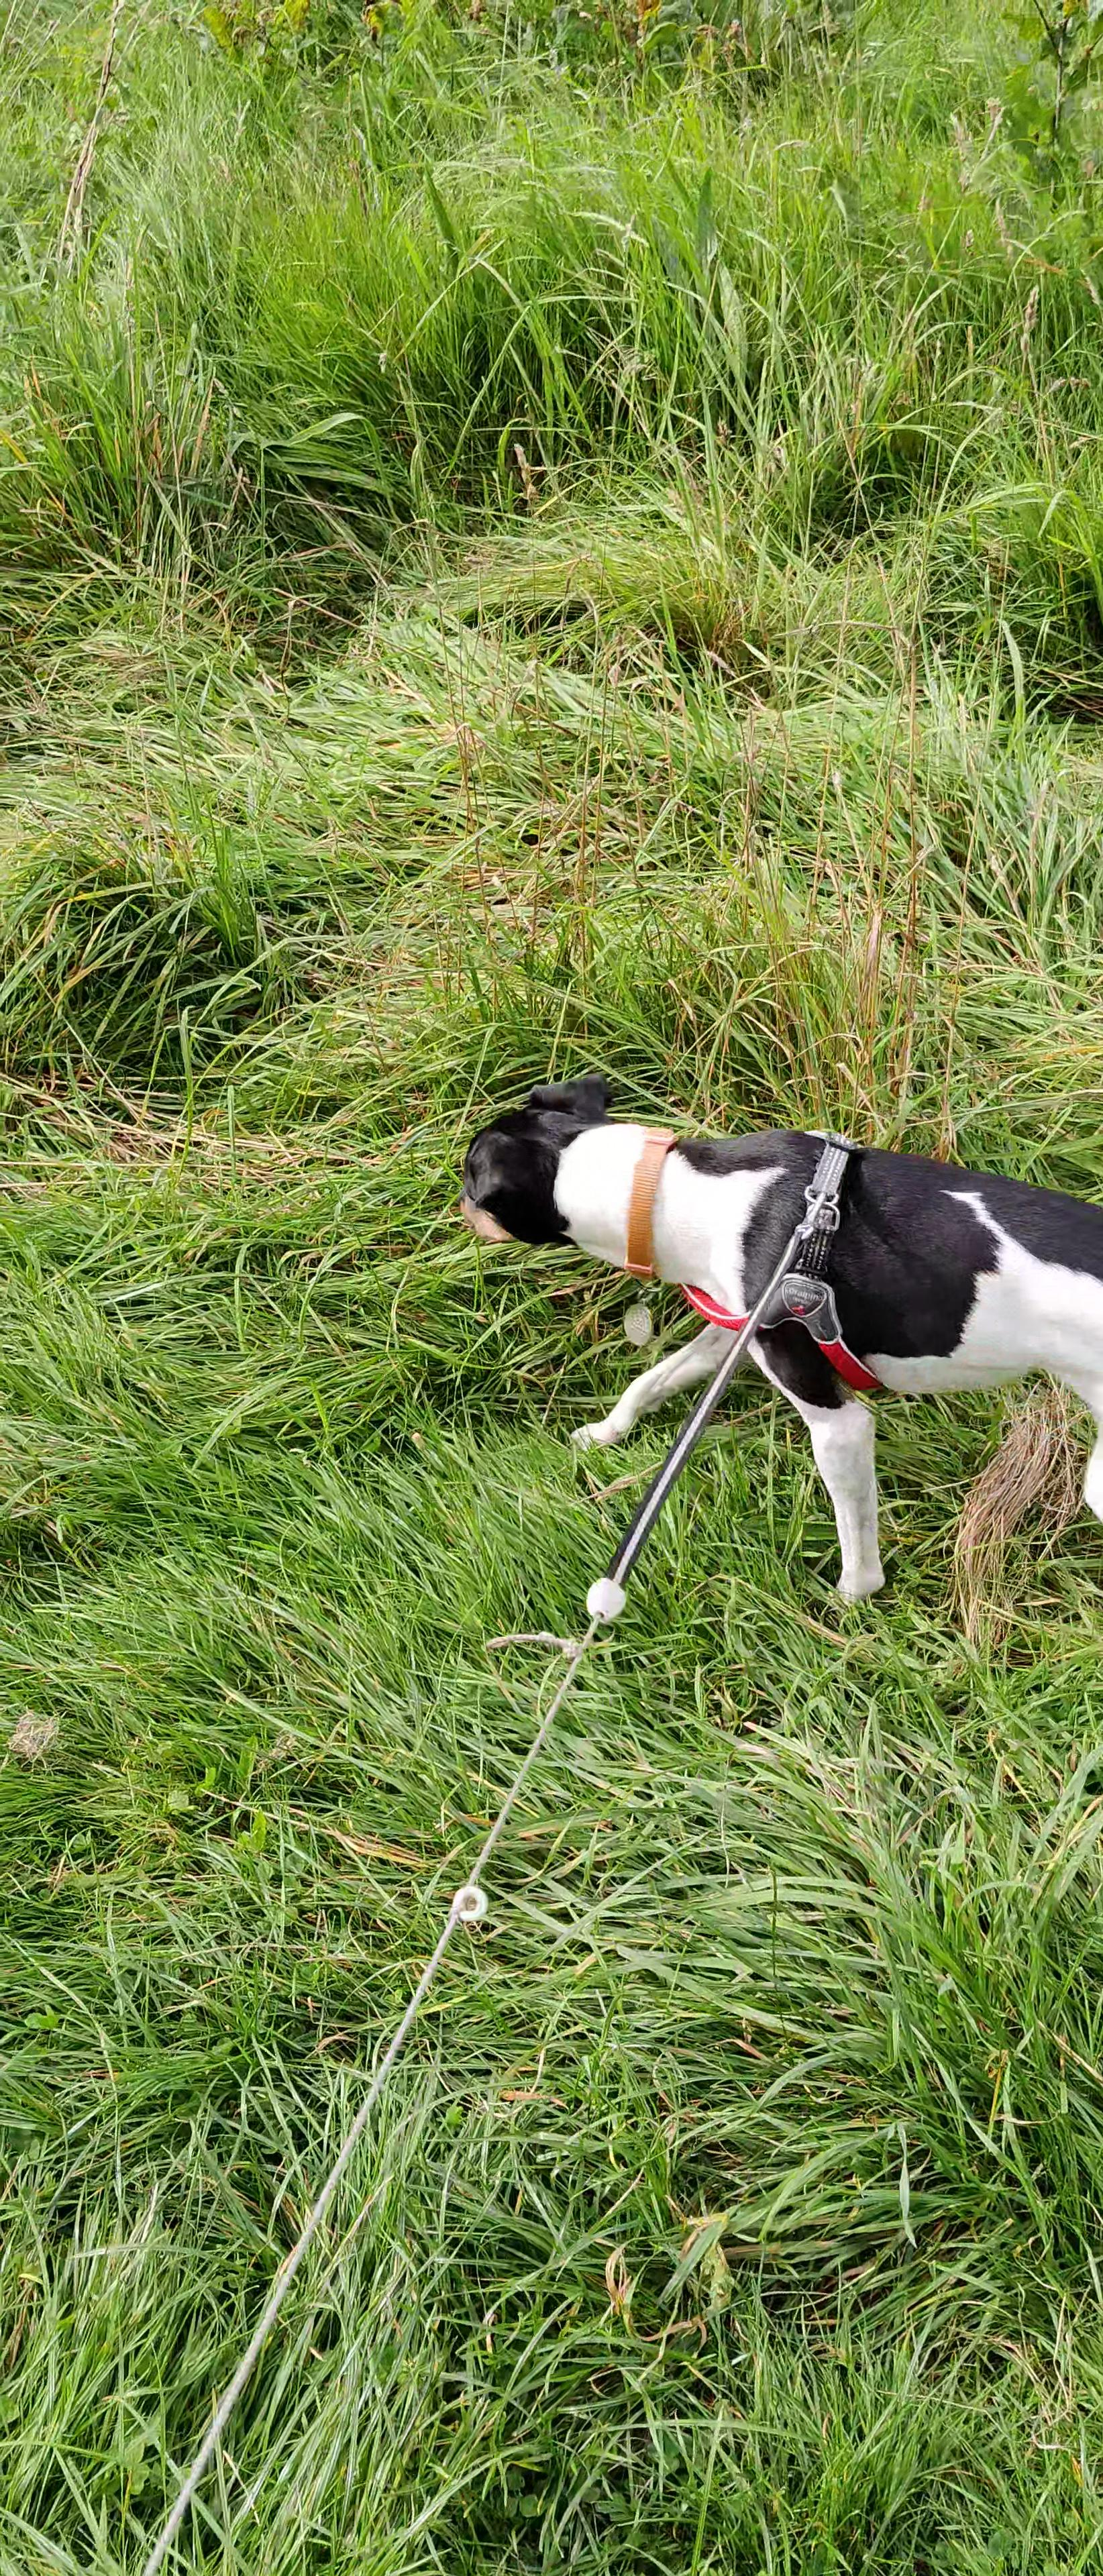Dog: (424, 1045, 1103, 1610)
